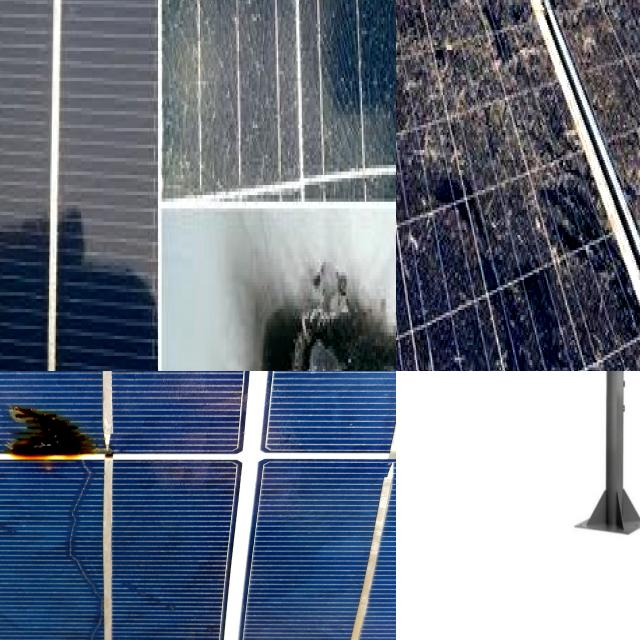bird: (400, 0, 493, 95), (514, 181, 570, 295), (531, 0, 626, 34), (396, 193, 433, 258), (396, 0, 437, 42), (396, 322, 430, 371), (396, 185, 414, 254), (396, 0, 428, 22)
crack: (408, 371, 640, 515)
shadow: (5, 386, 120, 562), (242, 258, 396, 371), (0, 53, 37, 250), (276, 0, 361, 73)
